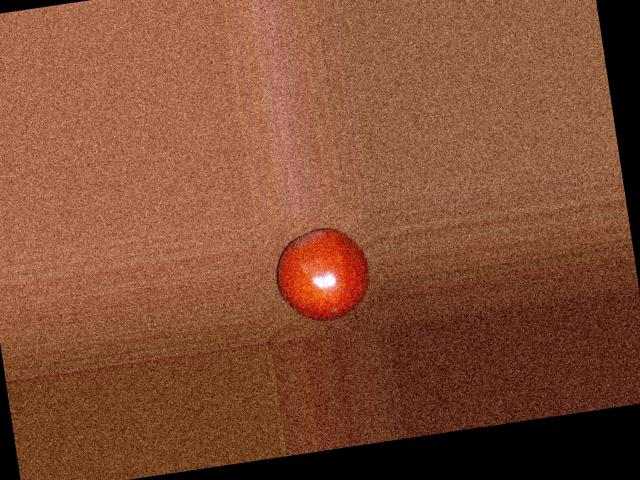tomato: (270, 222, 376, 327)
